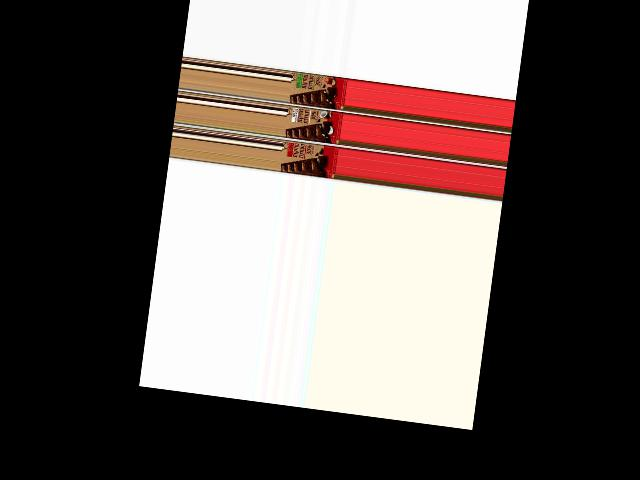chocolate: (288, 69, 348, 109)
